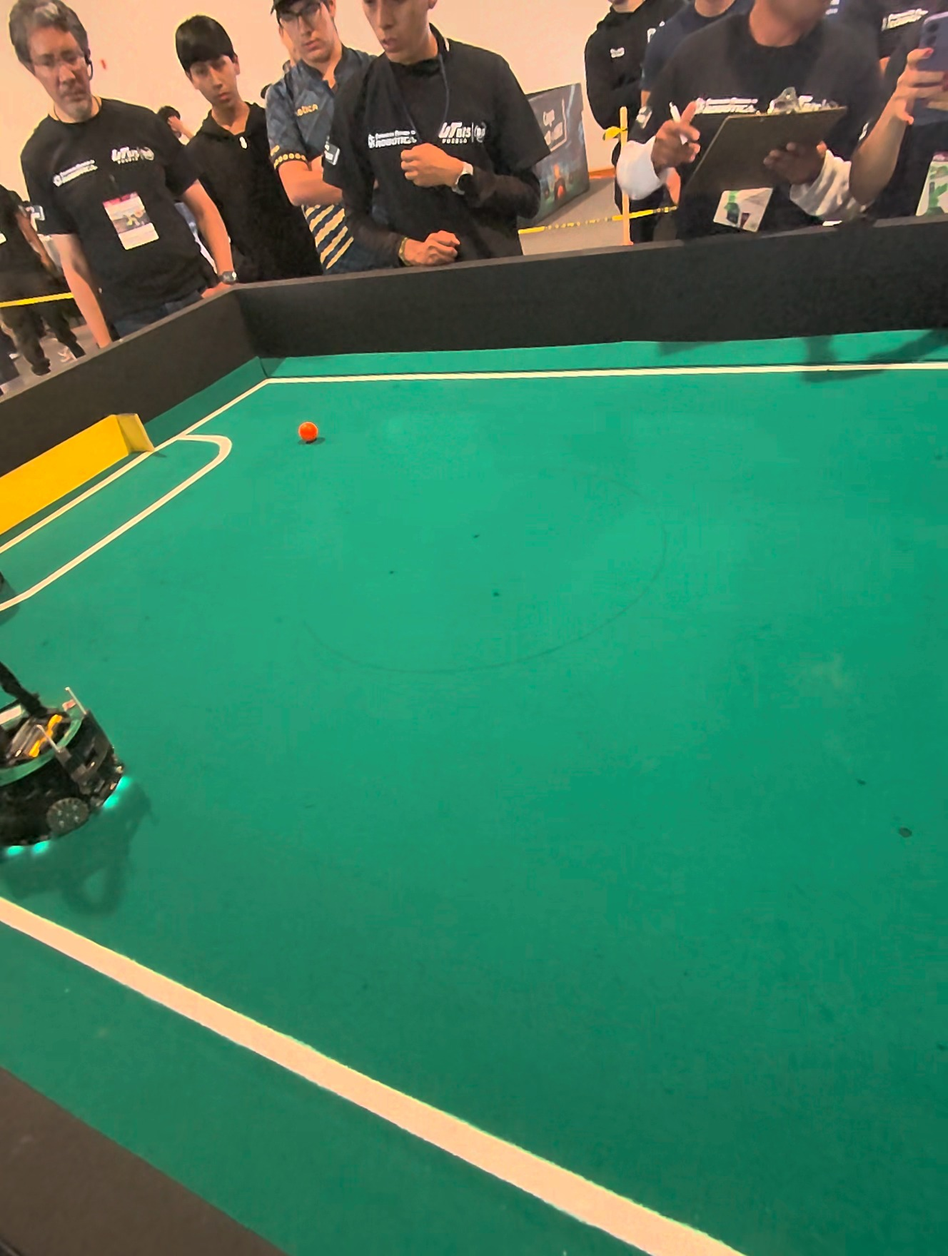Robot: (0, 629, 143, 867)
pelota: (280, 411, 328, 450)
